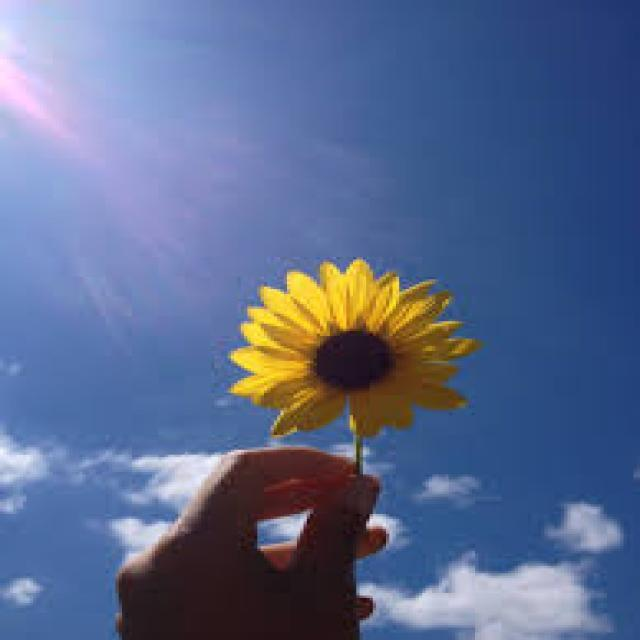sunflower: (226, 255, 478, 438)
